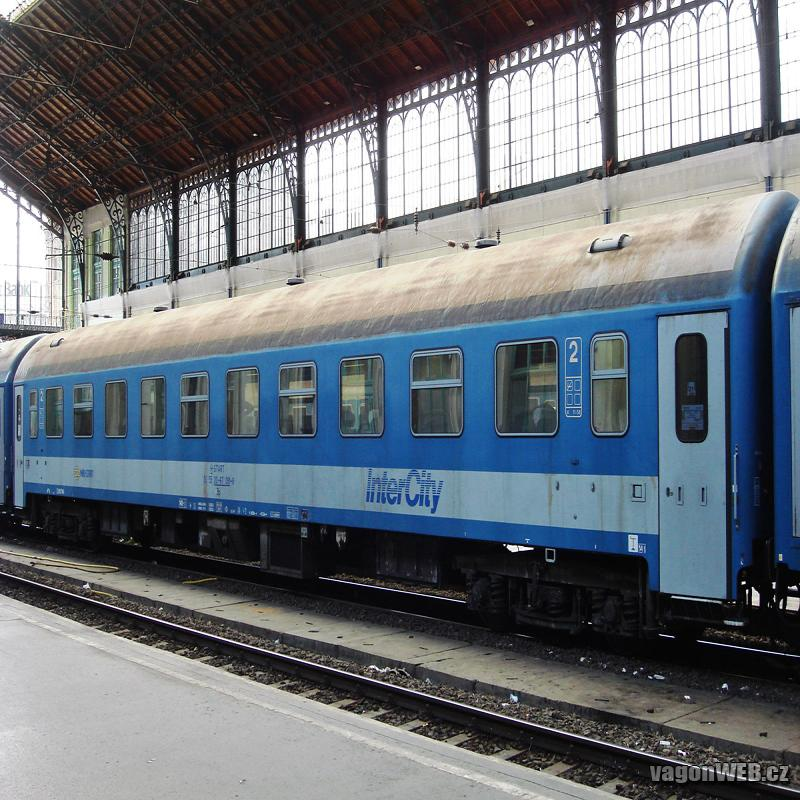train: (11, 191, 799, 663)
